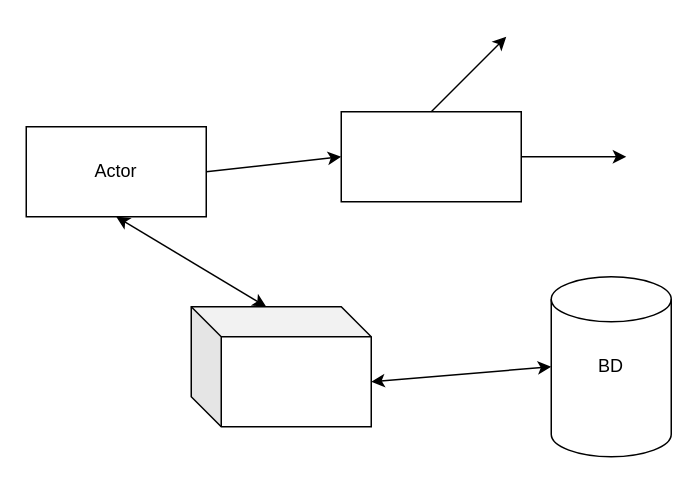
Image size: 698x483. Some labels were removed from this diagram. Each missing label, with the centre of its shape:
"server" goes at point 280,366.
"мain page" goes at point 430,156.
